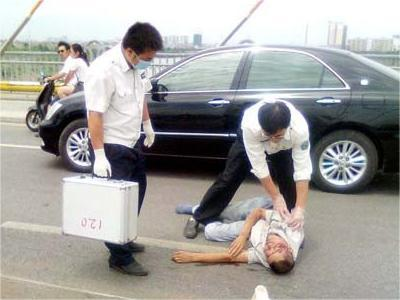bending: (184, 96, 311, 236)
down: (173, 196, 305, 273)
up: (86, 19, 166, 280)
